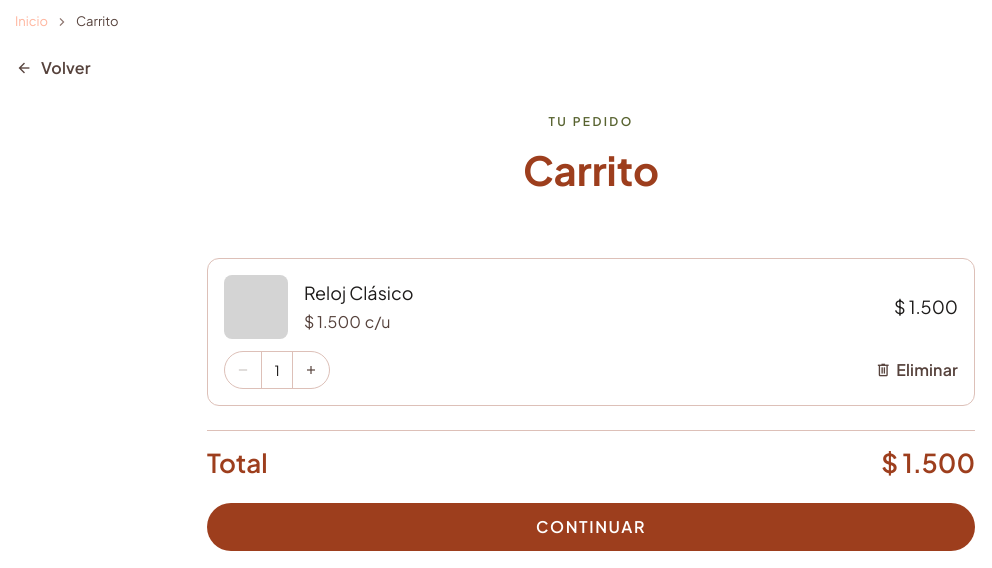
it: Carrito › actualiza la cantidad de una línea vía el selector, y el subtotal reacciona
Expected: the text "Reloj Clásico" is shown, left=304, top=281, right=414, bottom=304
Click the button named "aumentar": (311, 370) left=293, top=352, right=329, bottom=388
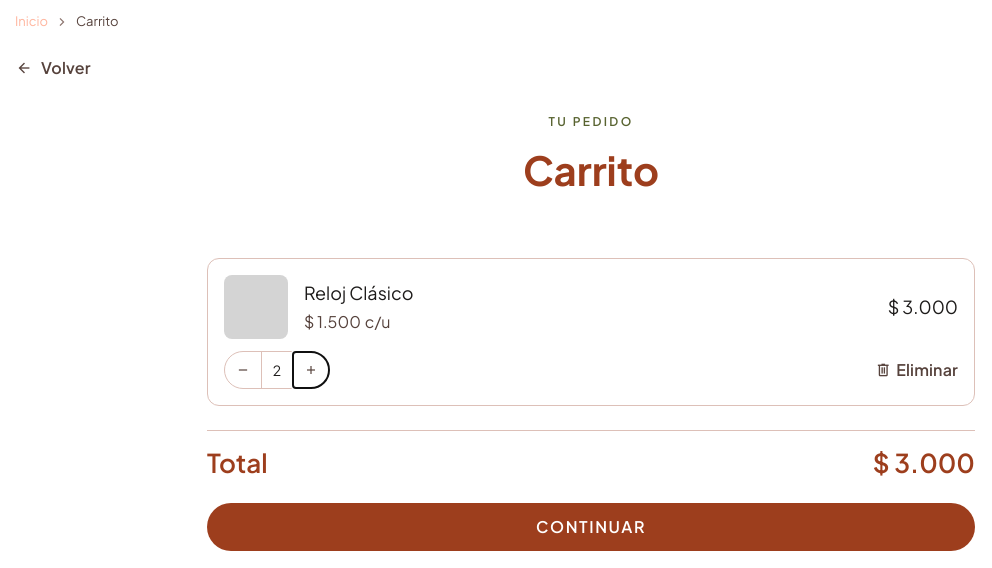
Expected: the text with test id "carrito-total" reads "$ 3.000", left=873, top=446, right=975, bottom=479
